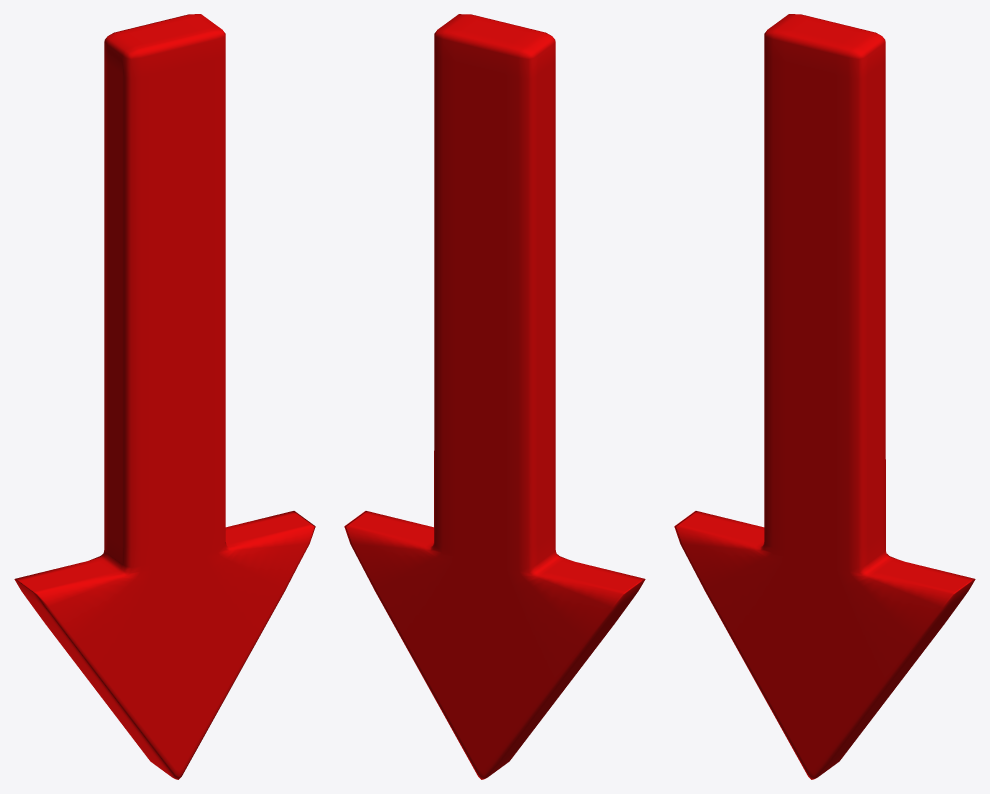
Rendered from Arrow.fbx.
3 renders of one model, left to right at view 1: azimuth 30°, elevation 25°; view 2: azimuth 150°, elevation 25°; view 3: azimuth 330°, elevation 25°, orthographic.
Parts seen in each view (by area): view 1: Arrow; view 2: Arrow; view 3: Arrow.
Boxes of the visible parts, x1,y1,x2,y2 form: Arrow: [14, 14, 315, 779]; Arrow: [344, 14, 645, 779]; Arrow: [674, 14, 975, 779].
Bounding box in the file's own units: 2.8 × 7.08 × 0.4975.
